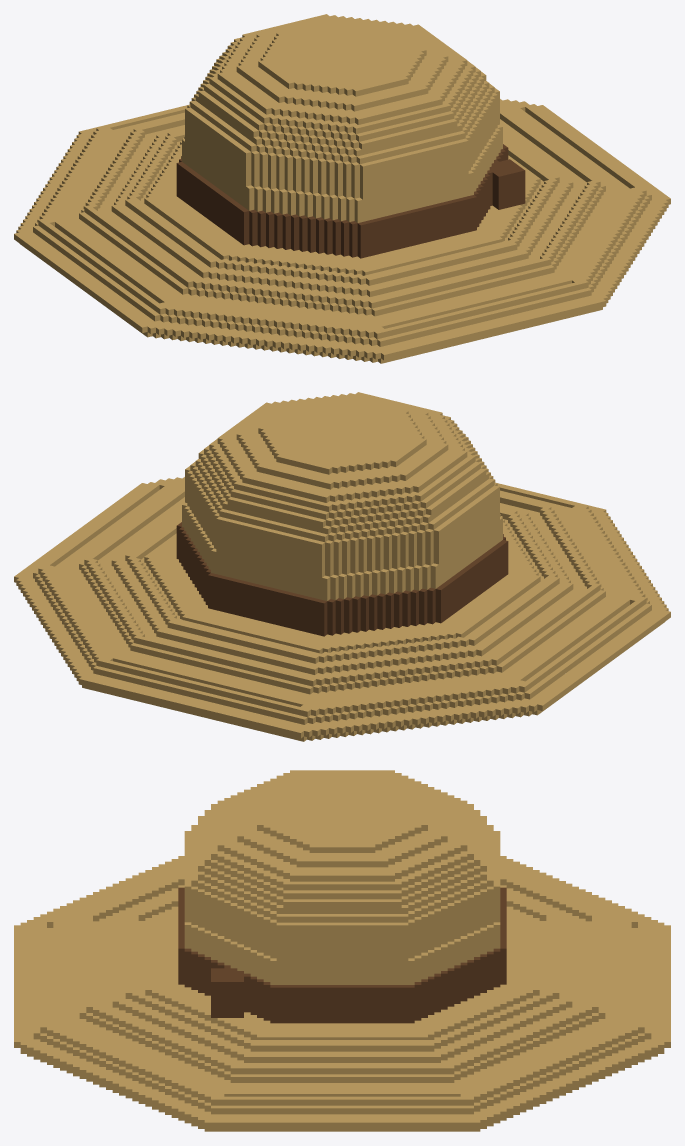
File: straw_hat.glb
3 renders of one model, top to bottom at view 1: azimuth 30°, elevation 25°; view 2: azimuth 150°, elevation 25°; view 3: azimuth 270°, elevation 25°, orthographic. The views are drawn at different scales.
Parts seen in each view (by area): view 1: straw_hat:compound; view 2: straw_hat:compound; view 3: straw_hat:compound.
Boxes of the visible parts, left/top/right/bottom form: straw_hat:compound: left=14, top=14, right=670, bottom=363; straw_hat:compound: left=14, top=392, right=670, bottom=741; straw_hat:compound: left=14, top=770, right=670, bottom=1131.
Size of the model in its own units: 0.4 by 0.124 by 0.4.
